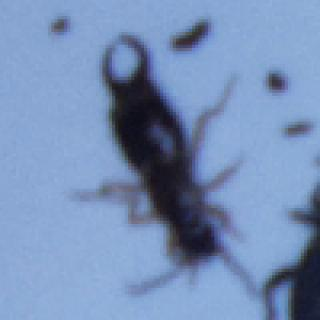earwig: (70, 32, 263, 311)
